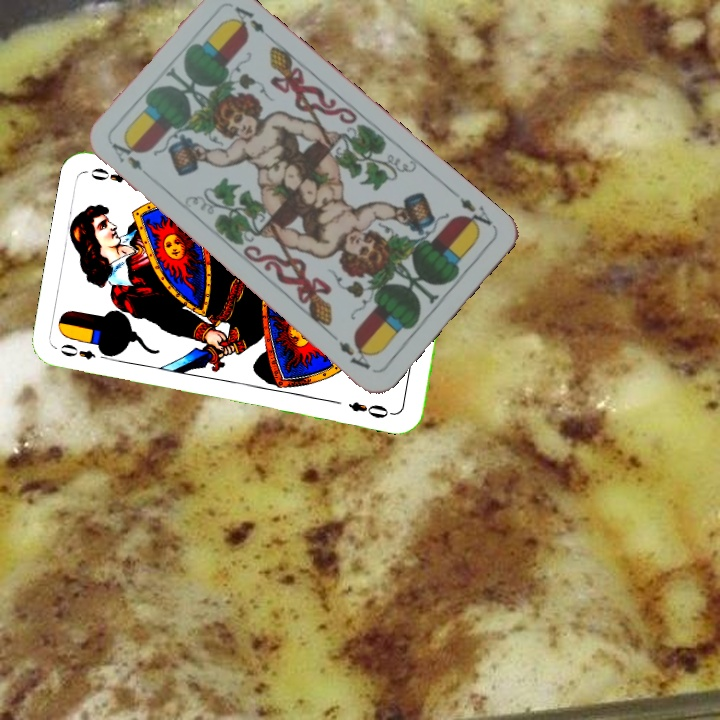EA: (448, 187, 494, 235), (107, 139, 145, 174)
EO: (56, 340, 98, 362)
